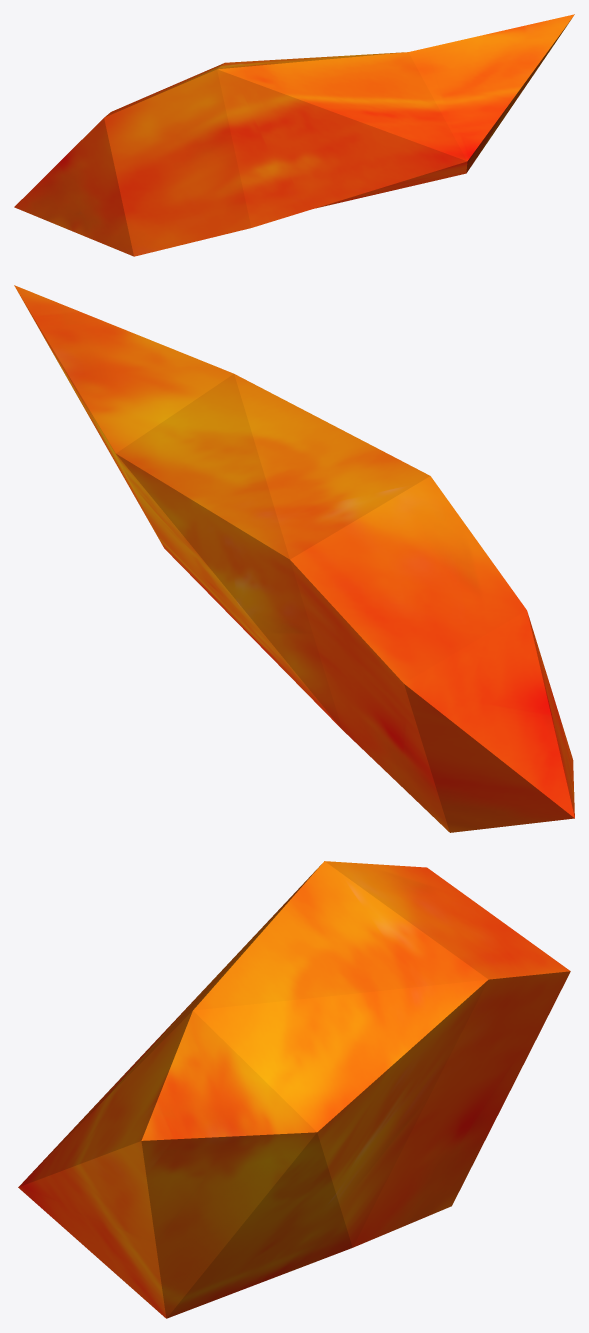
File: Island_2_Tree_1_Leaf_2.gltf
3 renders of one model, top to bottom at view 1: azimuth 30°, elevation 25°; view 2: azimuth 150°, elevation 25°; view 3: azimuth 270°, elevation 25°, orthographic. The views are drawn at different scales.
Visible parts, largest first — view 1: Island_2_Tree_1_Leaf_2; view 2: Island_2_Tree_1_Leaf_2; view 3: Island_2_Tree_1_Leaf_2.
Boxes of the visible parts, <box> form: Island_2_Tree_1_Leaf_2: <box>14,14,574,256</box>; Island_2_Tree_1_Leaf_2: <box>14,285,574,832</box>; Island_2_Tree_1_Leaf_2: <box>18,861,570,1318</box>.
Size of the model in its own units: 0.992 by 0.4258 by 0.5164.
Materials: 1 (1 with a texture image).
